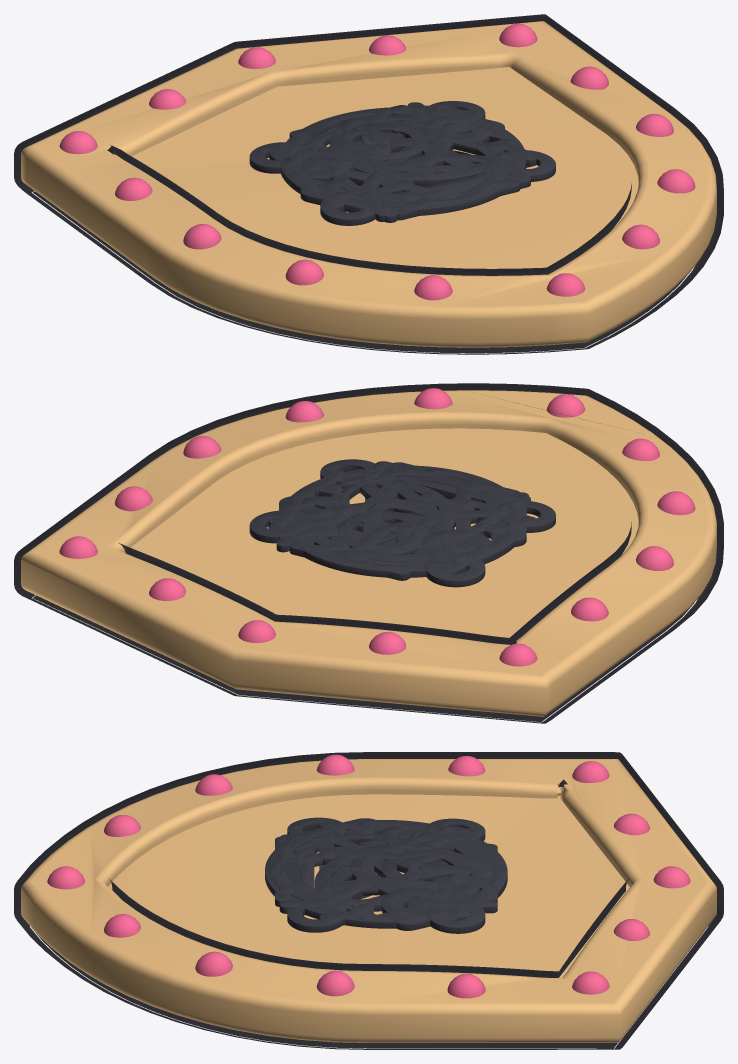
Rendered from shield.glb.
The picture shows the model from 3 angles, top to bottom: view 1: azimuth 30°, elevation 25°; view 2: azimuth 150°, elevation 25°; view 3: azimuth 270°, elevation 25°; orthographic projection.
Visible parts, largest first — view 1: body, outline, stones, mark_plan_uses, mark_buddies, mark_perfect_cycles, mark_night_owl, mark_workouts, mark_records, mark_cycles, mark_streak, mark_volume (+1 smaller); view 2: body, outline, stones, mark_plan_uses, mark_perfect_cycles, mark_buddies, mark_night_owl, mark_records, mark_workouts, mark_cycles, mark_streak, mark_volume (+1 smaller); view 3: body, outline, stones, mark_plan_uses, mark_perfect_cycles, mark_buddies, mark_night_owl, mark_workouts, mark_records, mark_streak, mark_cycles, mark_volume (+1 smaller).
Boxes of the visible parts, bbox=[...] form: body: bbox=[21, 21, 716, 347]; outline: bbox=[14, 14, 723, 354]; stones: bbox=[59, 23, 695, 300]; mark_plan_uses: bbox=[249, 101, 555, 225]; mark_buddies: bbox=[282, 115, 536, 221]; mark_perfect_cycles: bbox=[279, 107, 526, 215]; mark_night_owl: bbox=[284, 104, 511, 209]; mark_workouts: bbox=[289, 105, 515, 212]; mark_records: bbox=[269, 105, 520, 220]; mark_cycles: bbox=[301, 102, 504, 222]; mark_streak: bbox=[328, 113, 506, 205]; mark_volume: bbox=[271, 112, 530, 221]; body: bbox=[21, 390, 716, 716]; outline: bbox=[14, 383, 723, 723]; stones: bbox=[59, 388, 695, 666]; mark_plan_uses: bbox=[249, 459, 555, 587]; mark_perfect_cycles: bbox=[279, 465, 526, 577]; mark_buddies: bbox=[282, 461, 536, 561]; mark_night_owl: bbox=[268, 469, 526, 566]; mark_records: bbox=[269, 462, 520, 580]; mark_workouts: bbox=[279, 483, 526, 552]; mark_cycles: bbox=[276, 473, 528, 561]; mark_streak: bbox=[324, 469, 506, 570]; mark_volume: bbox=[271, 462, 530, 570]; body: bbox=[21, 759, 716, 1042]; outline: bbox=[14, 752, 723, 1049]; stones: bbox=[47, 754, 690, 998]; mark_plan_uses: bbox=[287, 817, 485, 933]; mark_perfect_cycles: bbox=[265, 820, 507, 928]; mark_buddies: bbox=[280, 822, 470, 925]; mark_night_owl: bbox=[270, 820, 492, 920]; mark_workouts: bbox=[275, 818, 497, 930]; mark_records: bbox=[275, 826, 497, 920]; mark_streak: bbox=[270, 833, 507, 911]; mark_cycles: bbox=[275, 829, 497, 913]; mark_volume: bbox=[279, 822, 448, 921].
Size of the model in its own units: 1.06 by 0.1195 by 1.23.
